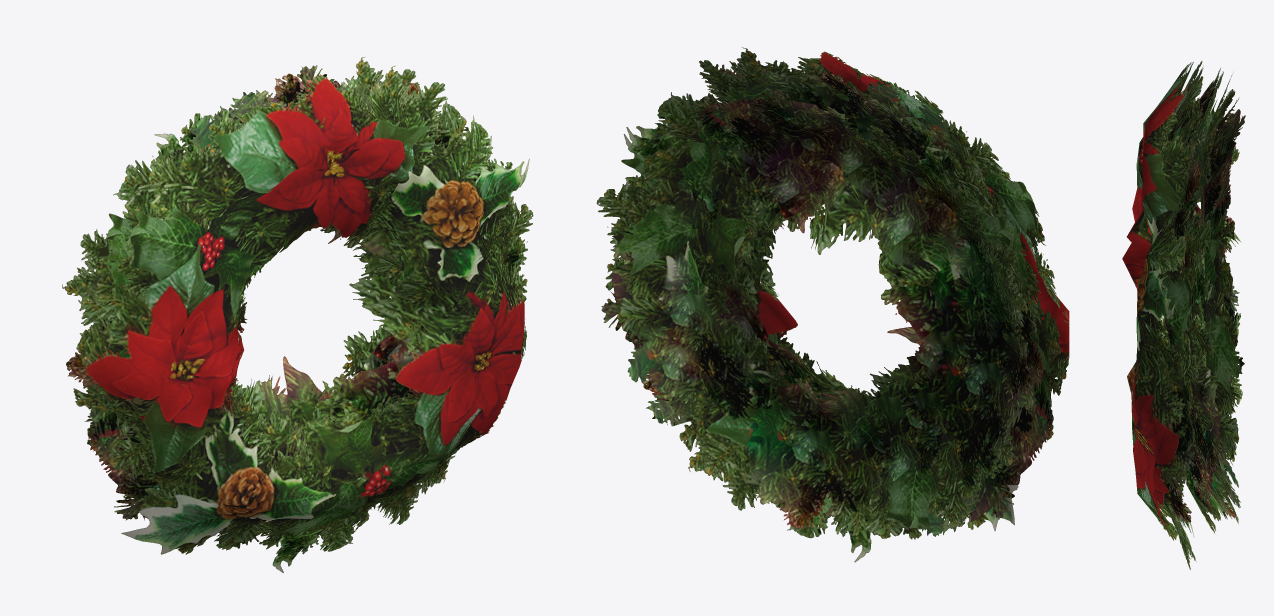
Rendered from wreath_2.FBX.
3 renders of one model, left to right at view 1: azimuth 30°, elevation 25°; view 2: azimuth 150°, elevation 25°; view 3: azimuth 270°, elevation 25°, orthographic. The views are drawn at different scales.
Visible parts, largest first — view 1: wreath_2; view 2: wreath_2; view 3: wreath_2.
Part boxes in pixels (x1,y1,x2,y2): wreath_2: (62,57,533,572); wreath_2: (596,47,1069,562); wreath_2: (1122,61,1245,569).
Size of the model in its own units: 107 by 112 by 26.32.
1 material, 1 textured.
